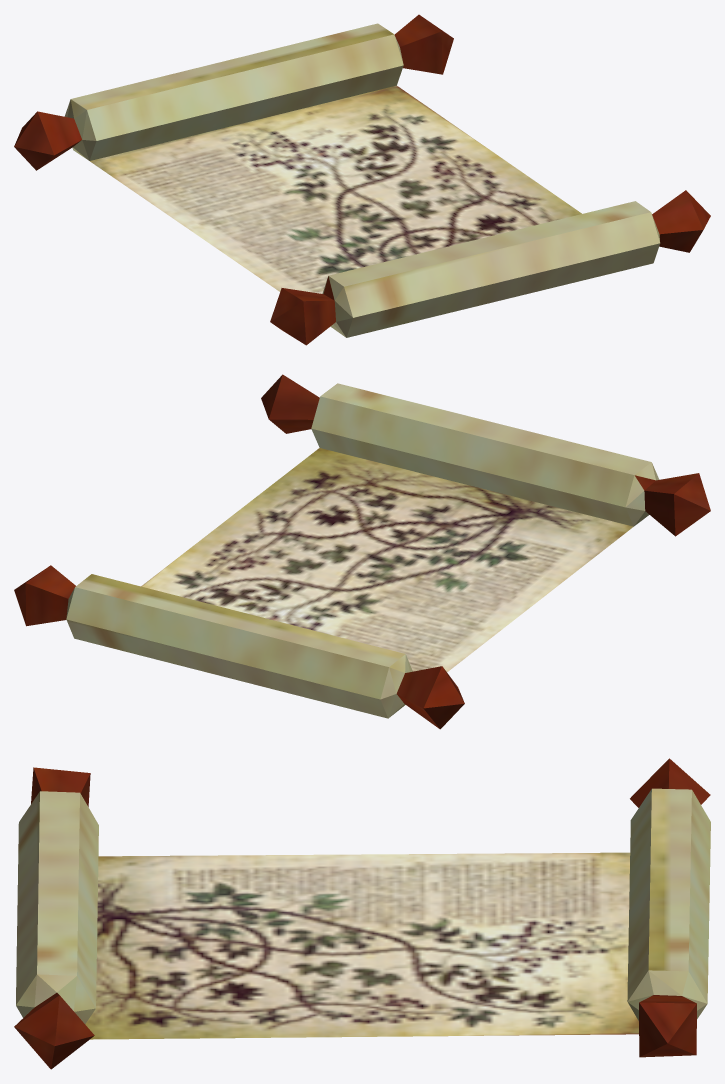
File: scroll.obj
3 renders of one model, top to bottom at view 1: azimuth 30°, elevation 25°; view 2: azimuth 150°, elevation 25°; view 3: azimuth 270°, elevation 25°, orthographic. The views are drawn at different scales.
Parts seen in each view (by area): view 1: Circle; view 2: Circle; view 3: Circle.
Boxes of the visible parts, x1,y1,x2,y2 form: Circle: [14, 14, 710, 345]; Circle: [14, 374, 710, 729]; Circle: [14, 758, 710, 1069].
Bounding box in the file's own units: 89.7 × 12.4 × 98.02.
